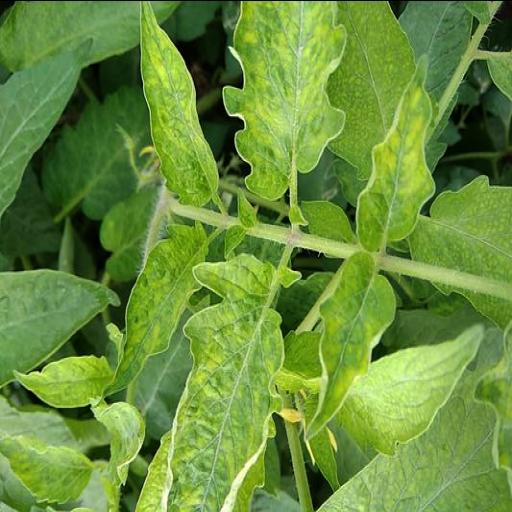Mosaic Virus: (164, 253, 286, 512), (217, 0, 347, 194), (92, 216, 212, 404), (354, 50, 438, 252), (305, 252, 397, 436), (137, 0, 219, 206)
